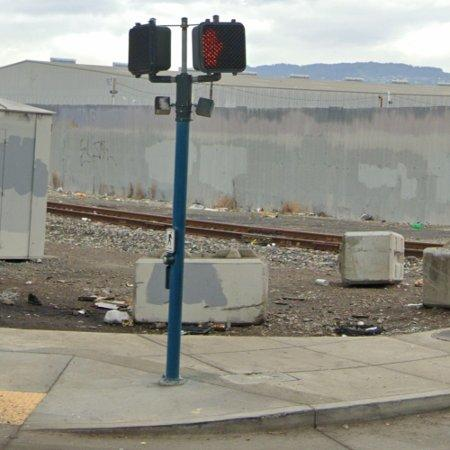traffic lights: (194, 20, 247, 73)
